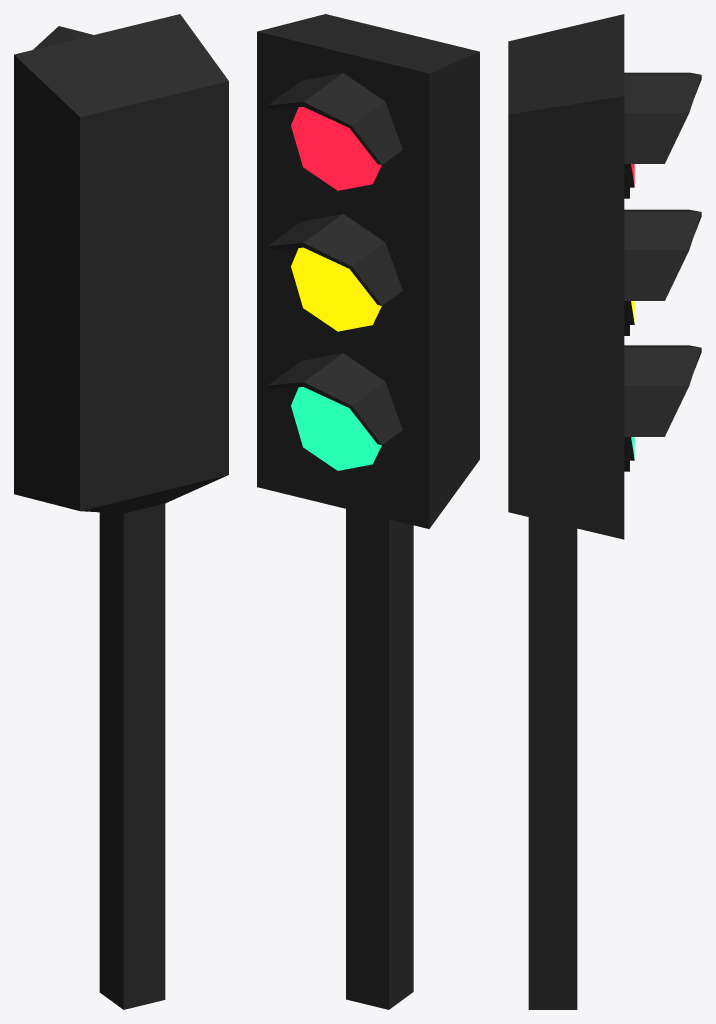
The model's file is trafficlight.glb.
3 renders of one model, left to right at view 1: azimuth 30°, elevation 25°; view 2: azimuth 150°, elevation 25°; view 3: azimuth 270°, elevation 25°, orthographic. The views are drawn at different scales.
Parts seen in each view (by area): view 1: TrafficLight; view 2: TrafficLight; view 3: TrafficLight.
Boxes of the visible parts, x1,y1,x2,y2 form: TrafficLight: (14, 14, 228, 1009); TrafficLight: (257, 14, 479, 1009); TrafficLight: (508, 14, 701, 1009).
Size of the model in its own units: 1.36 by 7.31 by 1.35.
